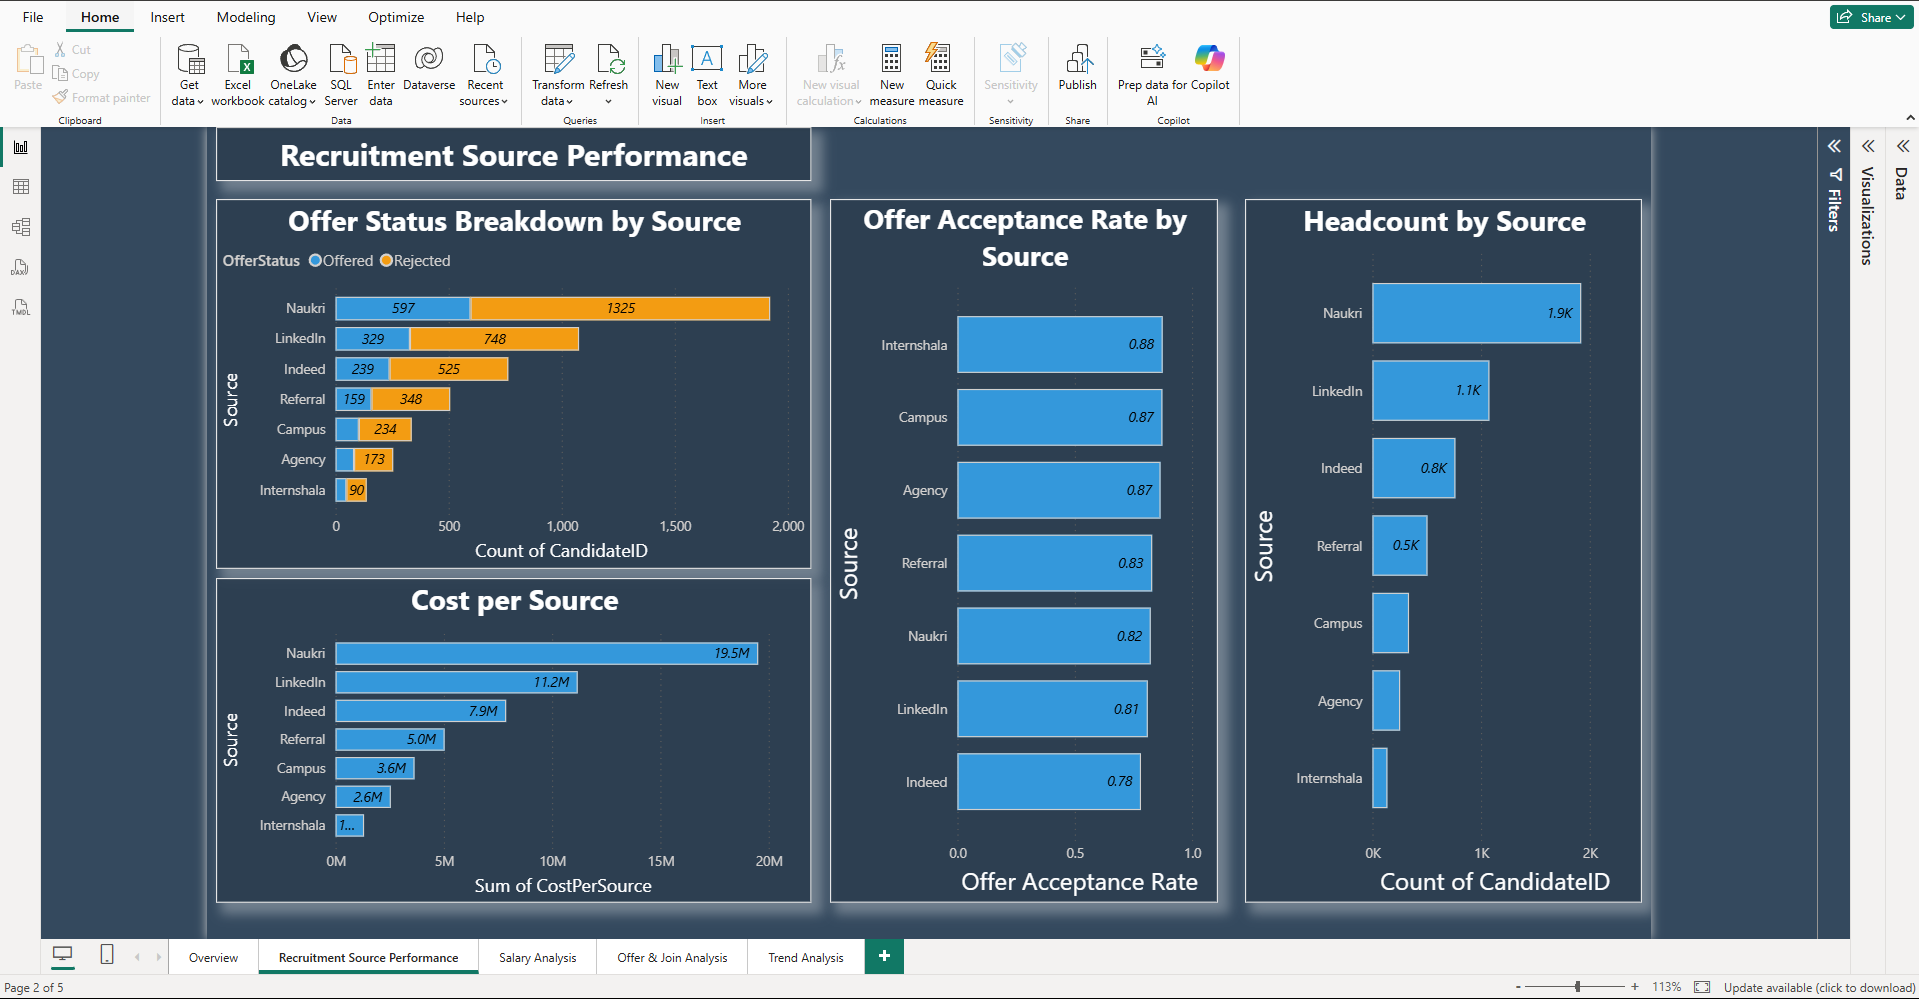

The page's visual inventory and layout, read from the dashboard file:
{"tool":"powerbi","page":{"name":"Recruitment Source Performance","canvas":[1280,720],"ordinal":1},"visuals":[{"type":"textbox","box":[8,0,528,48],"z":0},{"type":"barChart","title":"Offer Status Breakdown by Source","fields":{"Category":["talent_source_effectiveness_5000.Source"],"Series":["talent_source_effectiveness_5000.OfferStatus"],"Y":["CountNonNull(talent_source_effectiveness_5000.CandidateID)"]},"box":[8,64,528,328],"z":1000},{"type":"barChart","title":"Offer Acceptance Rate by Source","fields":{"Category":["talent_source_effectiveness_5000.Source"],"Y":["talent_source_effectiveness_5000.Offer Acceptance Rate"]},"box":[552,64,344,624],"z":2000},{"type":"barChart","title":"Cost per Source","fields":{"Category":["talent_source_effectiveness_5000.Source"],"Y":["Sum(talent_source_effectiveness_5000.CostPerSource)"]},"box":[8,400,528,288],"z":3000},{"type":"barChart","title":"Headcount by Source","fields":{"Category":["talent_source_effectiveness_5000.Source"],"Y":["CountNonNull(talent_source_effectiveness_5000.CandidateID)"]},"box":[920,64,352,624],"z":4000}]}

Visuals, with their boxes on the page's 1280x720 design canvas (x1, y1, x2, y2). These are canvas units, not pixel positions in the 1919x999 screenshot, which may show the page scaled, cropped or inside an application window:
textbox: box=[8, 0, 536, 48]
"Offer Status Breakdown by Source" barChart: box=[8, 64, 536, 392]
"Offer Acceptance Rate by Source" barChart: box=[552, 64, 896, 688]
"Cost per Source" barChart: box=[8, 400, 536, 688]
"Headcount by Source" barChart: box=[920, 64, 1272, 688]
